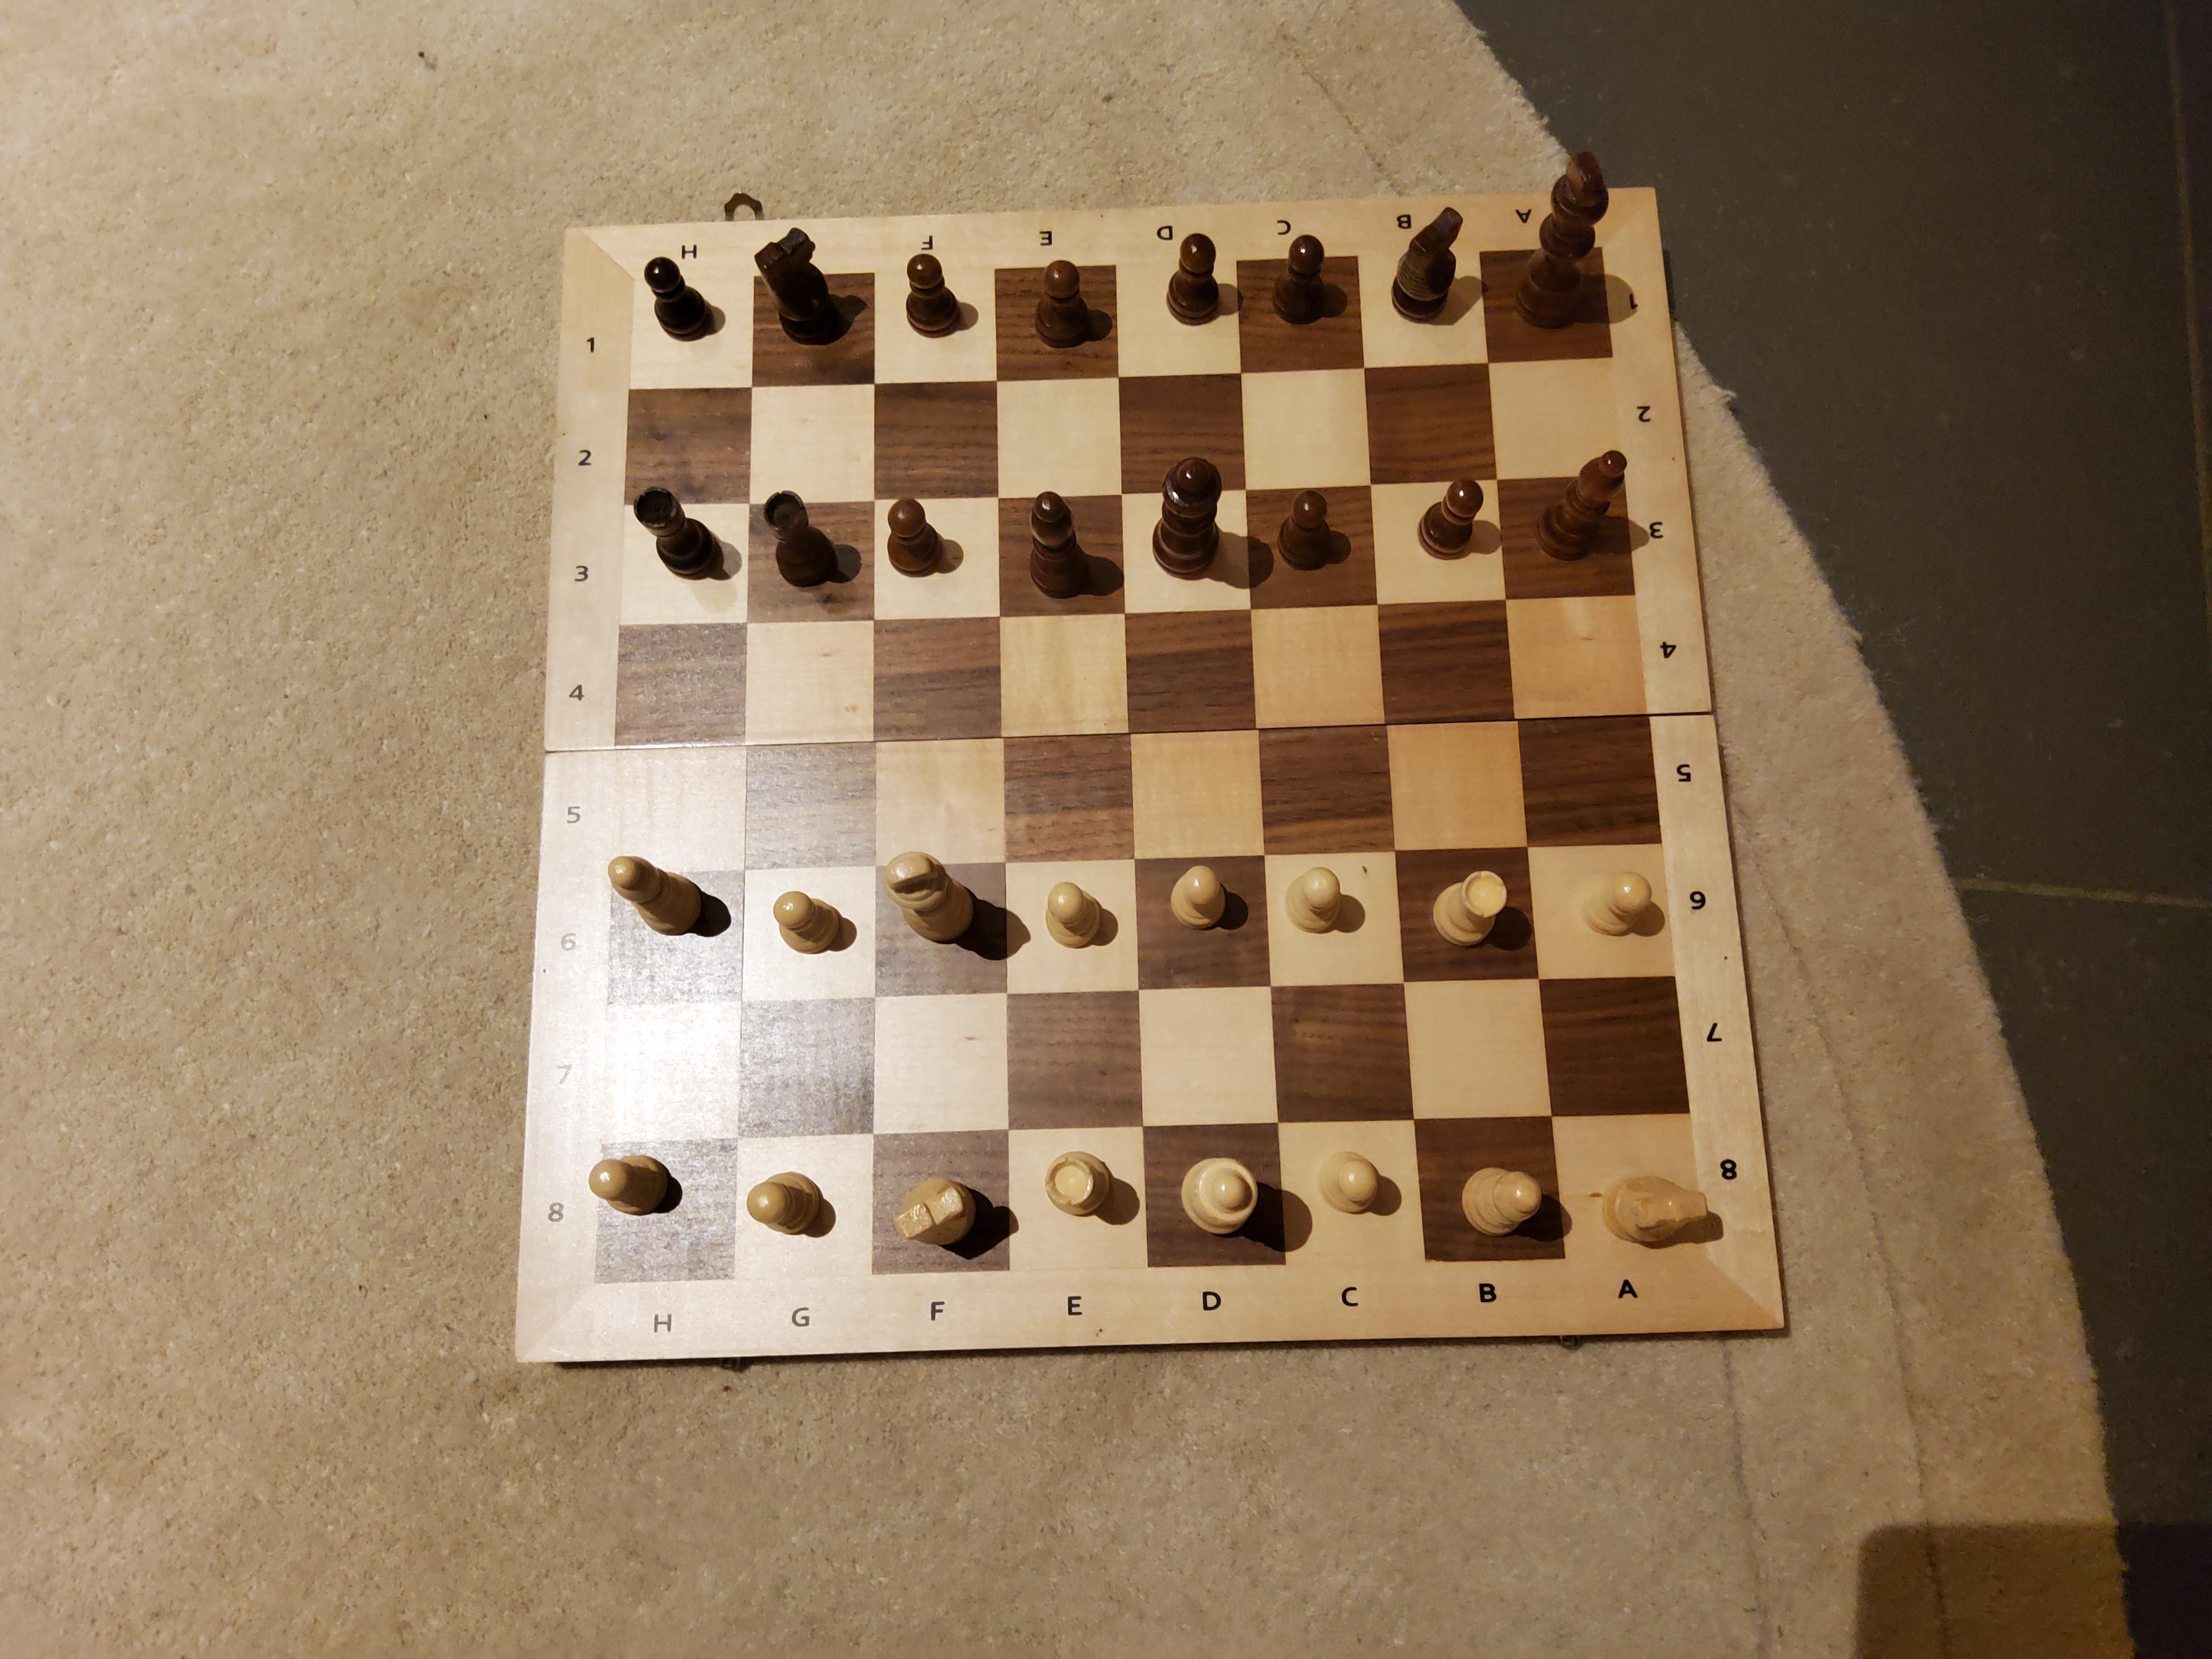schaak: (502, 120, 1797, 1370), (1508, 125, 1613, 319), (1529, 432, 1651, 568), (742, 223, 866, 345), (1146, 1127, 1264, 1243), (597, 838, 732, 938), (1129, 464, 1249, 568), (1588, 1157, 1726, 1248), (627, 469, 737, 577), (876, 847, 995, 943), (751, 477, 862, 579), (1385, 183, 1472, 310), (880, 1162, 989, 1256), (1155, 220, 1238, 340), (632, 240, 723, 349), (1449, 1141, 1547, 1241), (582, 1138, 686, 1230), (1010, 477, 1106, 577), (1298, 1136, 1393, 1232), (1024, 1131, 1120, 1227), (1021, 244, 1109, 340), (1263, 488, 1364, 570), (742, 1147, 838, 1232), (1423, 863, 1512, 951), (892, 235, 975, 329), (1413, 467, 1493, 565), (758, 884, 857, 957), (1263, 220, 1339, 314), (1578, 857, 1667, 936), (1035, 871, 1115, 951), (880, 490, 951, 570), (1160, 861, 1235, 922), (1291, 857, 1348, 936)
